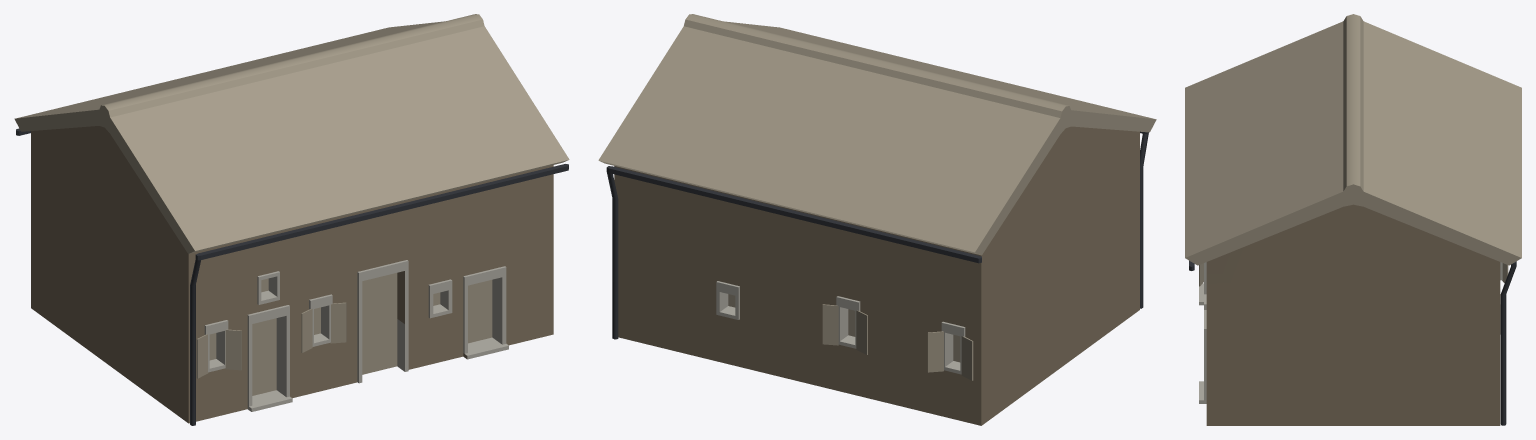
Rendered from House.fbx.
3 renders of one model, left to right at view 1: azimuth 30°, elevation 25°; view 2: azimuth 150°, elevation 25°; view 3: azimuth 270°, elevation 25°, orthographic. The views are drawn at different scales.
Parts seen in each view (by area): view 1: Box002, Box003, Object001, Cylinder001, Box005; view 2: Box002, Box003, Cylinder001, Box005, Object001; view 3: Box003, Box002, Cylinder001.
Boxes of the visible parts, <box> form: Box002: <box>31,126,553,423</box>; Box003: <box>14,14,569,253</box>; Object001: <box>209,273,492,395</box>; Cylinder001: <box>16,128,568,425</box>; Box005: <box>196,302,346,378</box>; Box002: <box>614,126,1139,425</box>; Box003: <box>598,14,1156,255</box>; Cylinder001: <box>606,131,1148,339</box>; Box005: <box>822,304,973,380</box>; Object001: <box>728,294,960,362</box>; Box003: <box>1185,14,1521,265</box>; Box002: <box>1199,204,1502,425</box>; Cylinder001: <box>1189,260,1516,425</box>.
Bounding box in the file's own units: 556 × 365 × 458.
